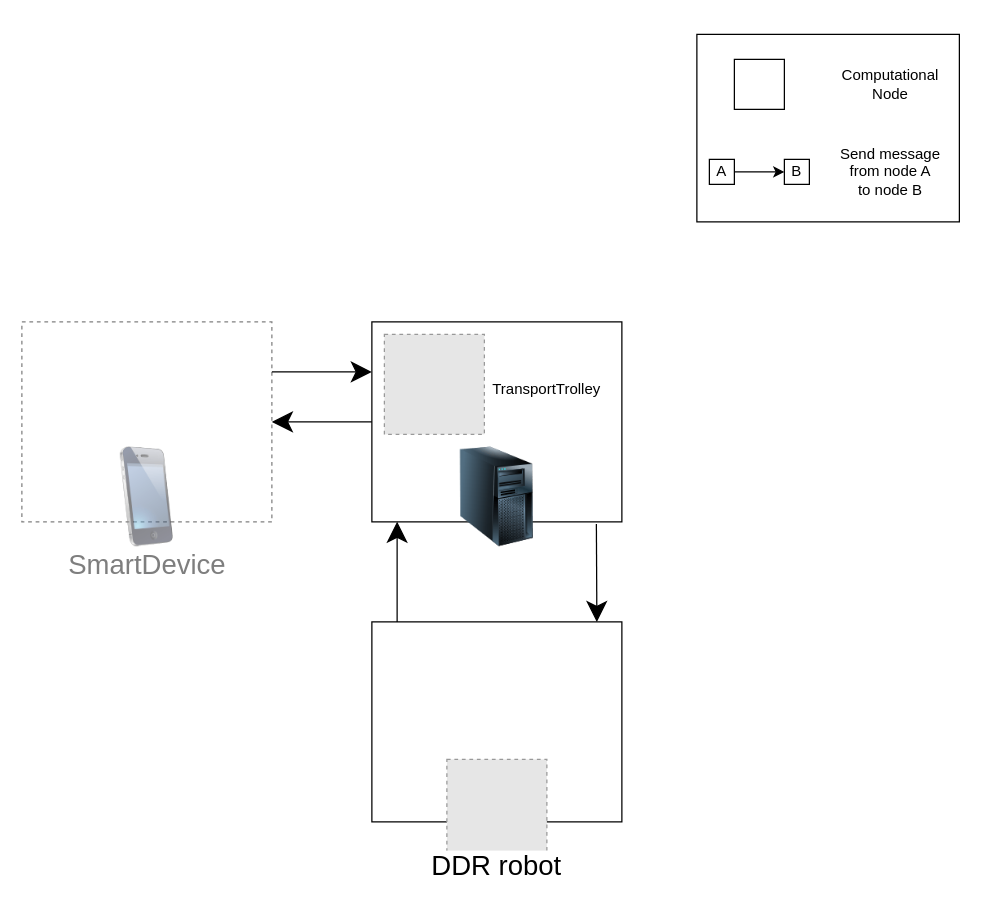
The diagram is 981 pixels wide and 904 high, and some of its shapes have lost their labels. Grey dashed boxes stand in for pictures. The box of each missing label's shape, as (x1, y1, x2, y2) in pixels:
Legend: (696, 33, 959, 222)
WasteService: (446, 446, 546, 546)
